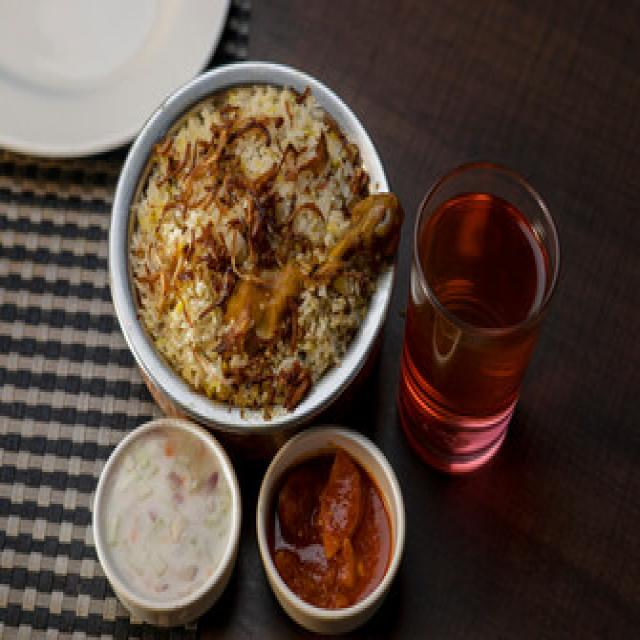BIRIYANI: (109, 83, 401, 429)
CURRY: (271, 451, 390, 608)
